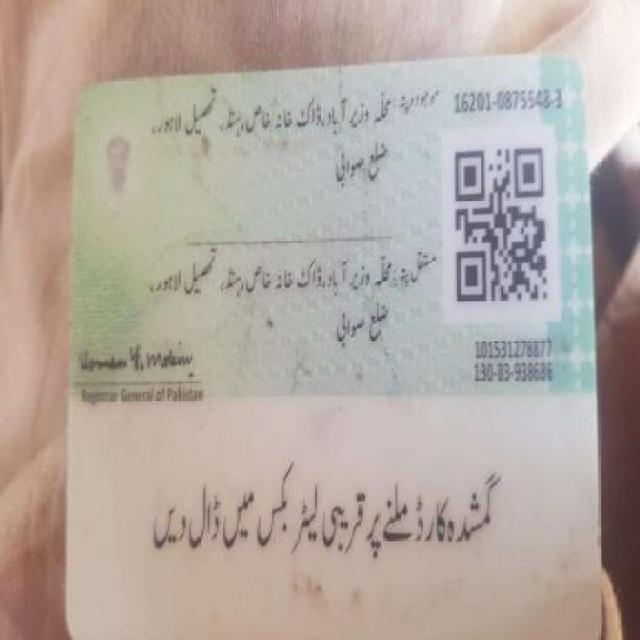Back: (62, 57, 608, 638)
